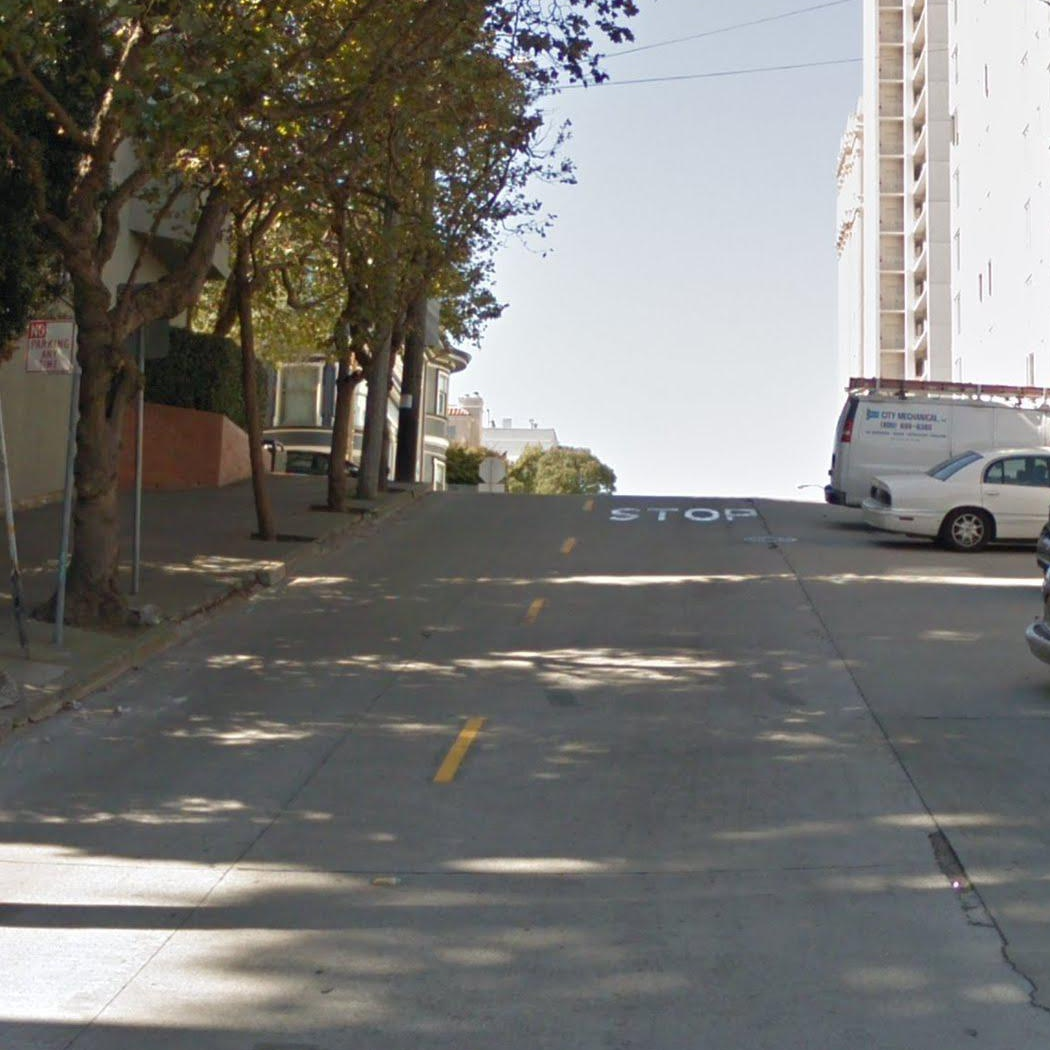No Parking Anytime: (25, 318, 79, 373)
